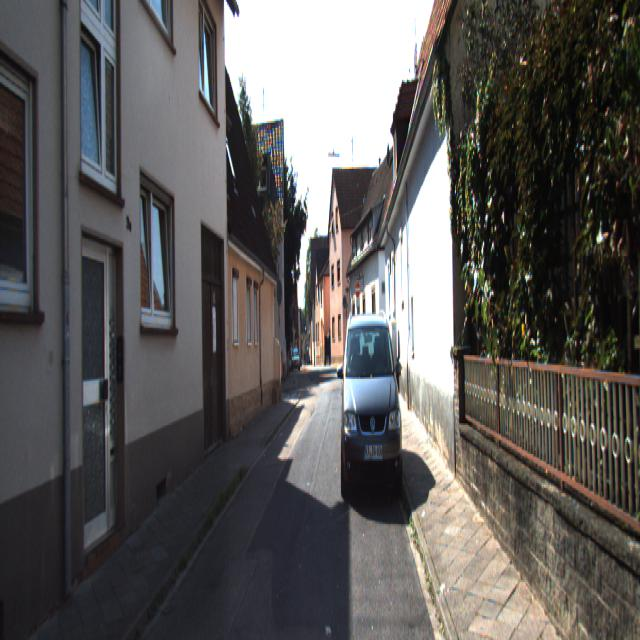Car: (338, 309, 404, 508)
